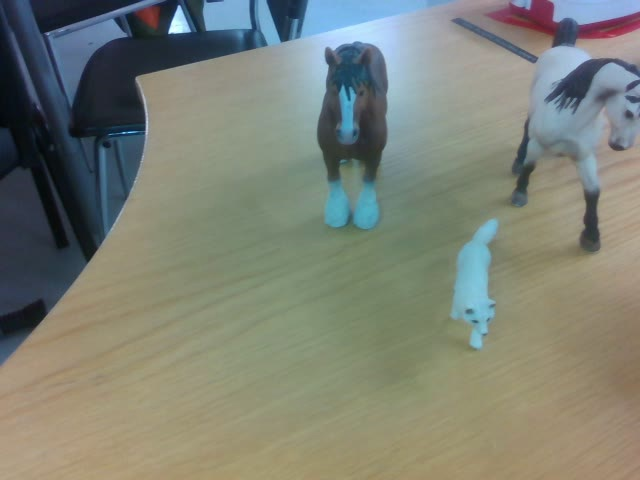toy: (514, 19, 640, 251), (319, 42, 389, 231), (448, 218, 498, 352)
